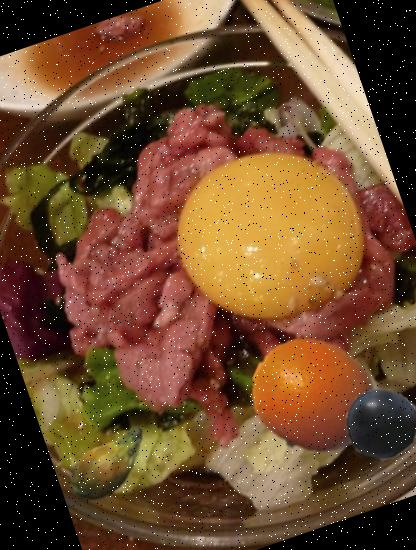Cactus: (53, 405, 170, 522)
Grape: (336, 378, 416, 468)
Grapefruit: (233, 316, 393, 477)
